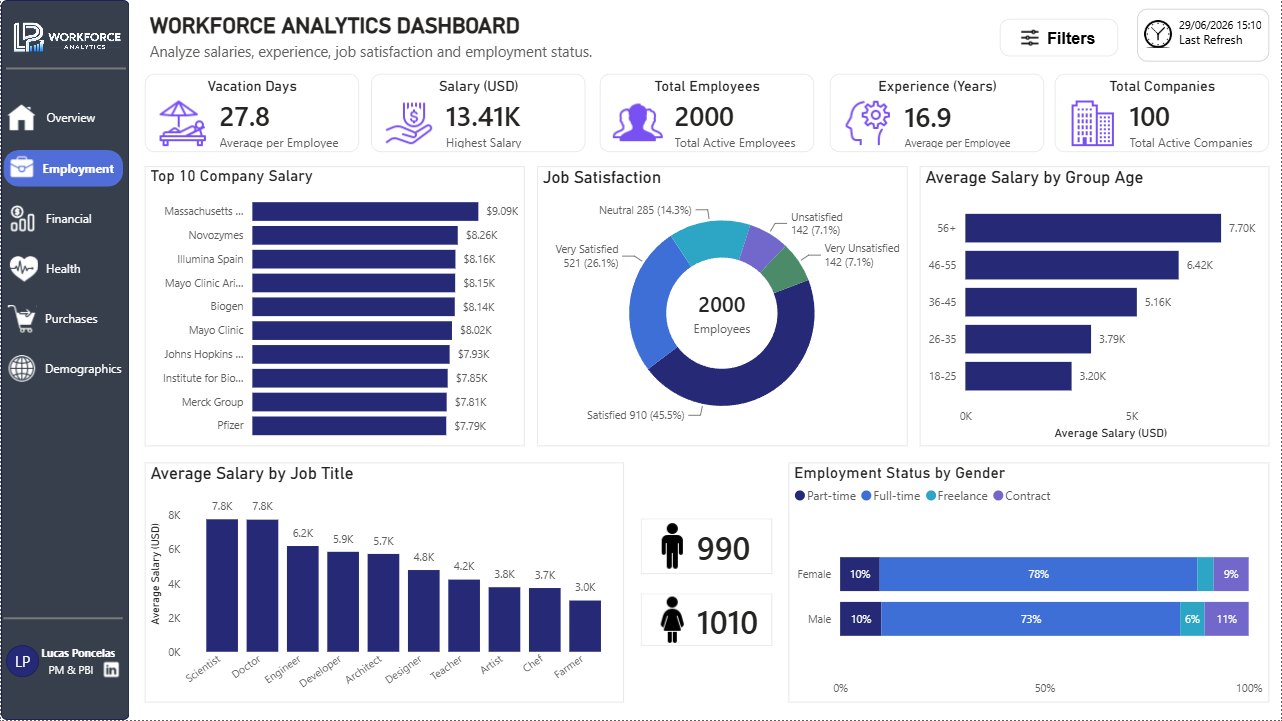

The page's visual inventory and layout, read from the dashboard file:
{"tool":"powerbi","page":{"name":"Employment","canvas":[1280,720],"ordinal":3},"visuals":[{"type":"cardVisual","title":"BTN_Last refresh","fields":{"Data":["Min(last refresh.LastRefresh)"]},"box":[1135.8,8.2,131.9,53.2],"z":0,"group":"g6"},{"type":"cardVisual","title":"Vacation Days","fields":{"Data":["1_Medidas calculadas.EMP1_Avg Vacation"]},"box":[144.3,73.4,214.3,78.7],"z":0,"group":"g7"},{"type":"donutChart","title":"Job Satisfaction","fields":{"Category":["empleo.job_satisfaction"],"Y":["CountNonNull(7_users.user_id)"]},"box":[536.7,166.5,370,280],"z":0,"group":"g2"},{"type":"cardVisual","title":"CARD_Female","fields":{"Data":["1_Medidas calculadas.USU4_Female"]},"box":[640.2,593.2,131.6,52.3],"z":0,"group":"g3"},{"type":"shape","title":"Guion abajo","box":[2.5,605,119.2,26.6],"z":0,"group":"g4"},{"type":"shape","title":"LP","box":[4.5,645,33.1,32.2],"z":0,"group":"g1"},{"type":"shape","title":"FRM_Panel lateral","box":[0,0,128.4,720],"z":1000},{"type":"actionButton","title":"BTN_Filters","box":[998.8,18.4,118.6,37.8],"z":1000,"group":"g6"},{"type":"cardVisual","title":"Salary (USD)","fields":{"Data":["Max(3_employment.salary)"]},"box":[369.9,73.4,214.3,78.7],"z":1000,"group":"g7"},{"type":"actionButton","title":"BTN_Demographics","box":[2.1,350.3,119.6,36.7],"z":1000,"group":"g4"},{"type":"cardVisual","title":"CARD_Male","fields":{"Data":["1_Medidas calculadas.USU4_Male"]},"box":[640.2,518.5,131.6,55.3],"z":1000,"group":"g3"},{"type":"actionButton","title":"Lucas Poncelas","box":[36.2,645.9,89.3,17.1],"z":1000,"group":"g1"},{"type":"group","id":"g1","title":"Firma","box":[4.5,645,120.9,36.7],"z":1500},{"type":"cardVisual","title":"Total Companies","fields":{"Data":["Count(3_employment.company_name)"]},"box":[1053.8,73.4,214.3,78.7],"z":2000,"group":"g7"},{"type":"barChart","title":"Average Salary by Group Age","fields":{"Y":["Avg(3_employment.salary)"],"Category":["7_users.Grupo Edad"]},"box":[918.3,166.5,349.7,280],"z":2000},{"type":"actionButton","title":"BTN_Purchases","box":[2.1,300.2,119.6,36.7],"z":2000,"group":"g4"},{"type":"actionButton","title":"Data Analyst","box":[29.8,662.9,79.7,16.1],"z":2000,"group":"g1"},{"type":"cardVisual","title":"Experience (Years)","fields":{"Data":["1_Medidas calculadas.EMP3_Avg Experience"]},"box":[829.9,73.4,214.3,78.7],"z":3000,"group":"g7"},{"type":"actionButton","title":"BTN_Health","box":[2.1,250,119.6,36.7],"z":3000,"group":"g4"},{"type":"columnChart","title":"Average Salary by Job Title","fields":{"Category":["empleo.job_title"],"Y":["1_Medidas calculadas.Avg Salary"]},"box":[144.3,463.1,479.4,239.7],"z":3000},{"type":"actionButton","title":"BTN_Linkdn","box":[97.4,657.2,25.7,24.5],"z":3000,"group":"g1"},{"type":"cardVisual","title":"Total Employees","fields":{"Data":["1_Medidas calculadas.USU1_Employees"]},"box":[599,73.4,214.3,78.7],"z":4000,"group":"g7"},{"type":"group","id":"g2","title":"Job Satisfaction","box":[536.7,166.5,370,280],"z":4000},{"type":"actionButton","title":"BTN_Financial","box":[2.1,199.9,119.6,36.7],"z":4000,"group":"g4"},{"type":"actionButton","title":"BTN_Employment","box":[2.1,149.8,119.6,36.7],"z":5000,"group":"g4"},{"type":"group","id":"g3","title":"Cards","box":[640.2,518.5,131.6,127.1],"z":5000},{"type":"actionButton","title":"BTN_Overview","box":[1.4,100.3,119.6,36],"z":6000,"group":"g4"},{"type":"barChart","title":"Top 10 Company Salary","fields":{"Category":["3_employment.company_name"],"Y":["1_Medidas calculadas.EMP4_Avg Salary"]},"box":[144.3,166.5,380,280],"z":6000},{"type":"group","id":"g4","title":"Principal Panel","box":[-0.6,11.2,129.6,620.4],"z":7000},{"type":"image","title":"IMG_Logo","box":[-0.6,11.2,129.6,64.8],"z":7000,"group":"g4"},{"type":"shape","title":"Guion abajo","box":[4.3,54.7,119.8,26.9],"z":8000,"group":"g4"},{"type":"group","id":"g5","title":"Filter Panel comp","box":[0,71,228,648.2],"z":8000},{"type":"textbox","title":"WORKFORCE ANALYTICS DASHBOARD","box":[144.3,12.2,454.9,52.6],"z":9000},{"type":"group","id":"g6","title":"Header","box":[998.8,8.2,268.9,53.2],"z":10000},{"type":"hundredPercentStackedBarChart","title":"Employment Status by Gender","fields":{"Category":["7_users.sex"],"Series":["3_employment.employment_status"],"Y":["1_Measures.USU1_Employees"]},"box":[787.5,463.1,480.6,239.7],"z":11000},{"type":"group","id":"g7","title":"Marcadores","box":[144.3,73.4,1123.8,79.5],"z":12000}]}

Visuals, with their boxes in screenshot pixels (x1, y1, x2, y2), scaled from the page's 1280x720 canvas onto the 1282x721 screenshot:
"BTN_Last refresh" cardVisual: bbox=[1138, 8, 1270, 61]
"Vacation Days" cardVisual: bbox=[145, 74, 359, 152]
"Job Satisfaction" donutChart: bbox=[538, 167, 908, 447]
"CARD_Female" cardVisual: bbox=[641, 594, 773, 646]
"Guion abajo" shape: bbox=[3, 606, 122, 632]
"LP" shape: bbox=[5, 646, 38, 678]
"FRM_Panel lateral" shape: bbox=[0, 0, 129, 720]
"BTN_Filters" actionButton: bbox=[1000, 18, 1119, 56]
"Salary (USD)" cardVisual: bbox=[370, 74, 585, 152]
"BTN_Demographics" actionButton: bbox=[2, 351, 122, 388]
"CARD_Male" cardVisual: bbox=[641, 519, 773, 575]
"Lucas Poncelas" actionButton: bbox=[36, 647, 126, 664]
"Firma" group: bbox=[5, 646, 126, 683]
"Total Companies" cardVisual: bbox=[1055, 74, 1270, 152]
"Average Salary by Group Age" barChart: bbox=[920, 167, 1270, 447]
"BTN_Purchases" actionButton: bbox=[2, 301, 122, 337]
"Data Analyst" actionButton: bbox=[30, 664, 110, 680]
"Experience (Years)" cardVisual: bbox=[831, 74, 1046, 152]
"BTN_Health" actionButton: bbox=[2, 250, 122, 287]
"Average Salary by Job Title" columnChart: bbox=[145, 464, 625, 704]
"BTN_Linkdn" actionButton: bbox=[98, 658, 123, 683]
"Total Employees" cardVisual: bbox=[600, 74, 815, 152]
"Job Satisfaction" group: bbox=[538, 167, 908, 447]
"BTN_Financial" actionButton: bbox=[2, 200, 122, 237]
"BTN_Employment" actionButton: bbox=[2, 150, 122, 187]
"Cards" group: bbox=[641, 519, 773, 646]
"BTN_Overview" actionButton: bbox=[1, 100, 121, 136]
"Top 10 Company Salary" barChart: bbox=[145, 167, 525, 447]
"Principal Panel" group: bbox=[0, 11, 129, 632]
"IMG_Logo" image: bbox=[0, 11, 129, 76]
"Guion abajo" shape: bbox=[4, 55, 124, 82]
"Filter Panel comp" group: bbox=[0, 71, 228, 720]
"WORKFORCE ANALYTICS DASHBOARD" textbox: bbox=[145, 12, 600, 65]
"Header" group: bbox=[1000, 8, 1270, 61]
"Employment Status by Gender" hundredPercentStackedBarChart: bbox=[789, 464, 1270, 704]
"Marcadores" group: bbox=[145, 74, 1270, 153]
